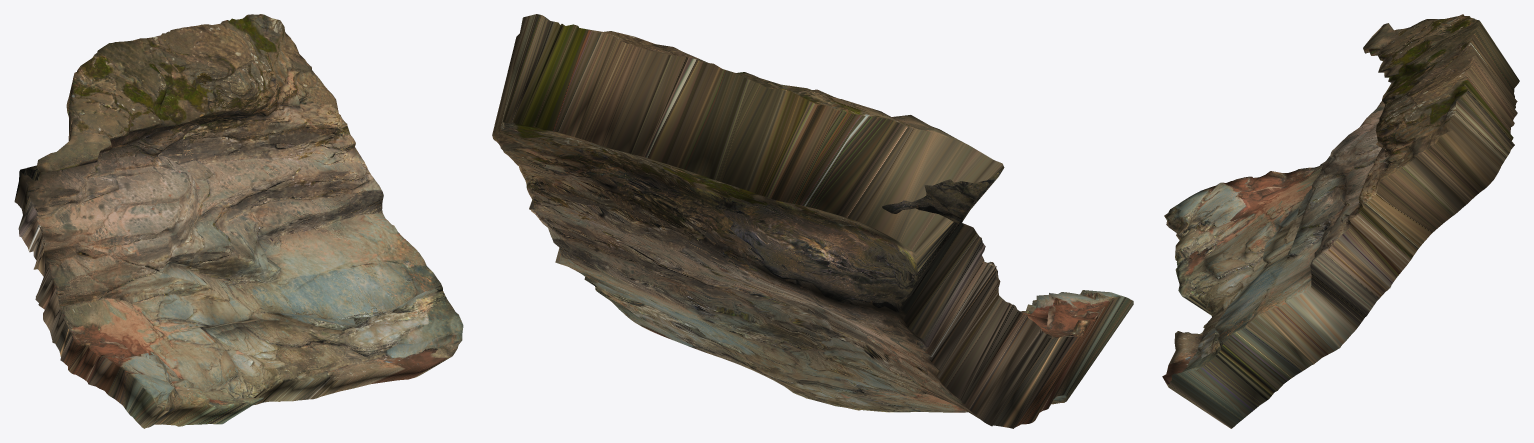
Rendered from Scan_RockFace01.fbx.
The picture shows the model from 3 angles, left to right: view 1: azimuth 30°, elevation 25°; view 2: azimuth 150°, elevation 25°; view 3: azimuth 270°, elevation 25°; orthographic projection. The views are drawn at different scales.
Parts seen in each view (by area): view 1: Scan_RockFace01_LOD0; view 2: Scan_RockFace01_LOD0; view 3: Scan_RockFace01_LOD0.
Part boxes in pixels (x1,y1,x2,y2): Scan_RockFace01_LOD0: (14, 14, 463, 428); Scan_RockFace01_LOD0: (492, 14, 1133, 428); Scan_RockFace01_LOD0: (1162, 14, 1519, 428).
Size of what is drawn, in the model's own units: 4.91 by 4.15 by 4.25.
